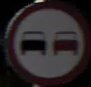No overtake: (10, 5, 85, 75)
